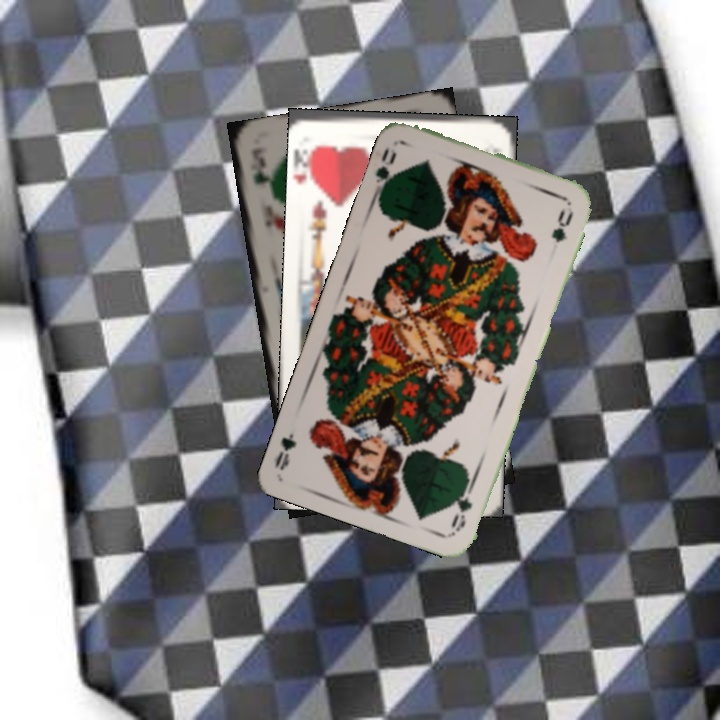GK: (249, 152, 270, 187)
GO: (447, 474, 478, 534), (370, 142, 401, 199)
HK: (294, 141, 322, 193)
